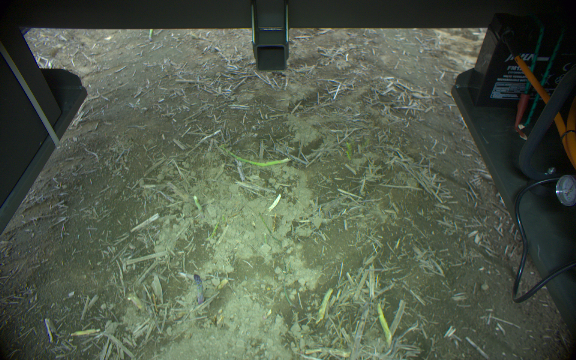aspa: (219, 142, 292, 168), (372, 302, 392, 347), (315, 287, 333, 325), (192, 272, 205, 307)
